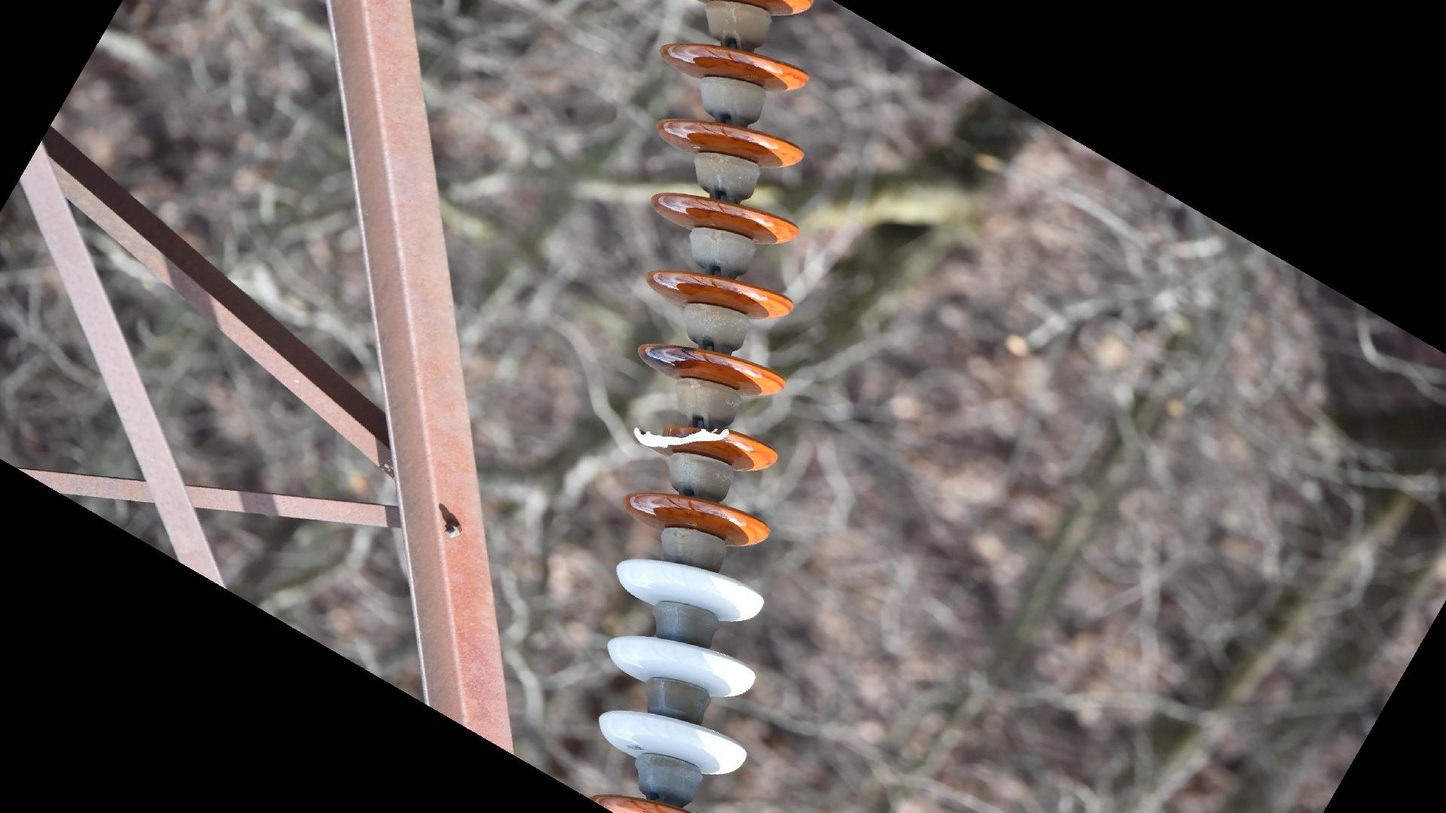insulator: (581, 1, 822, 813)
insulator_breakage: (627, 418, 736, 458)
